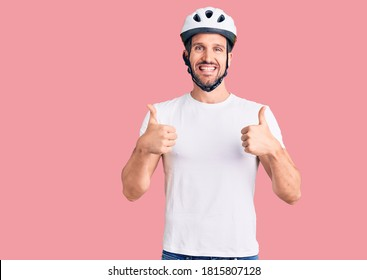helmet: (180, 6, 236, 91)
